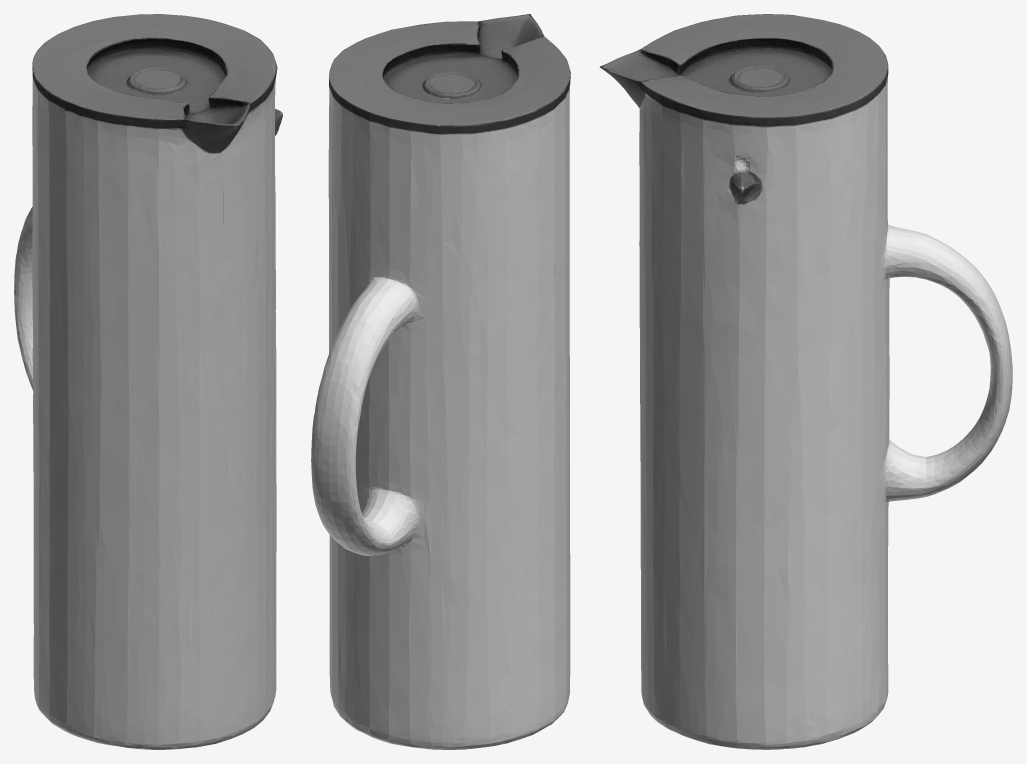
File: 075999e5-5359-4812-997e-8ca2e829fcc6.glb
3 renders of one model, left to right at view 1: azimuth 30°, elevation 25°; view 2: azimuth 150°, elevation 25°; view 3: azimuth 270°, elevation 25°, orthographic.
Parts seen in each view (by area): view 1: world; view 2: world; view 3: world.
Boxes of the visible parts, left/top/right/bottom form: world: left=14, top=14, right=282, bottom=749; world: left=311, top=14, right=570, bottom=749; world: left=600, top=14, right=1012, bottom=749.
Bounding box in the file's own units: 0.3619 × 0.989 × 0.5822.
1 material, 1 textured.
